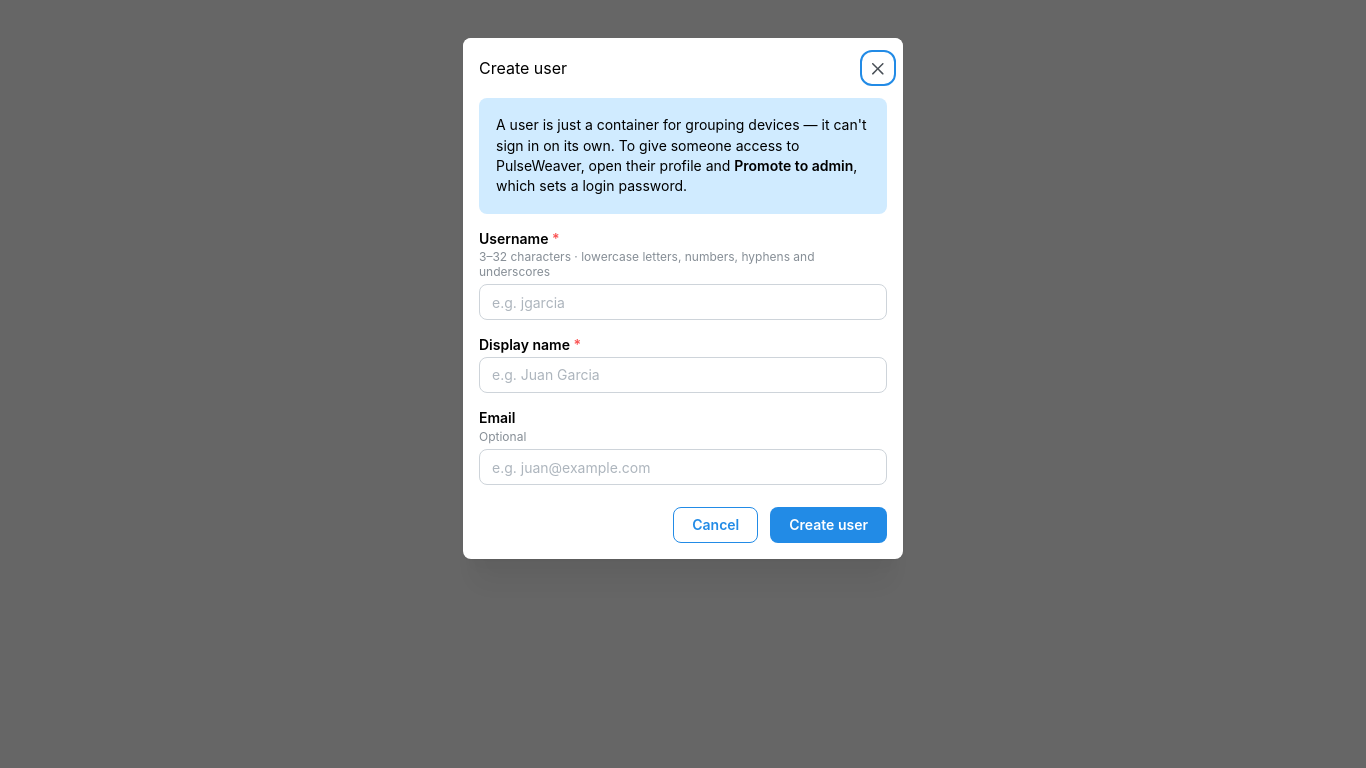
CreateUserModal › creates a user with a trimmed email, closes, notifies, and navigates to detail
The width and height of the screenshot is (1366, 768).
Type "alice" into the field labelled "Username *" at (683, 302), box [479,284,887,320]
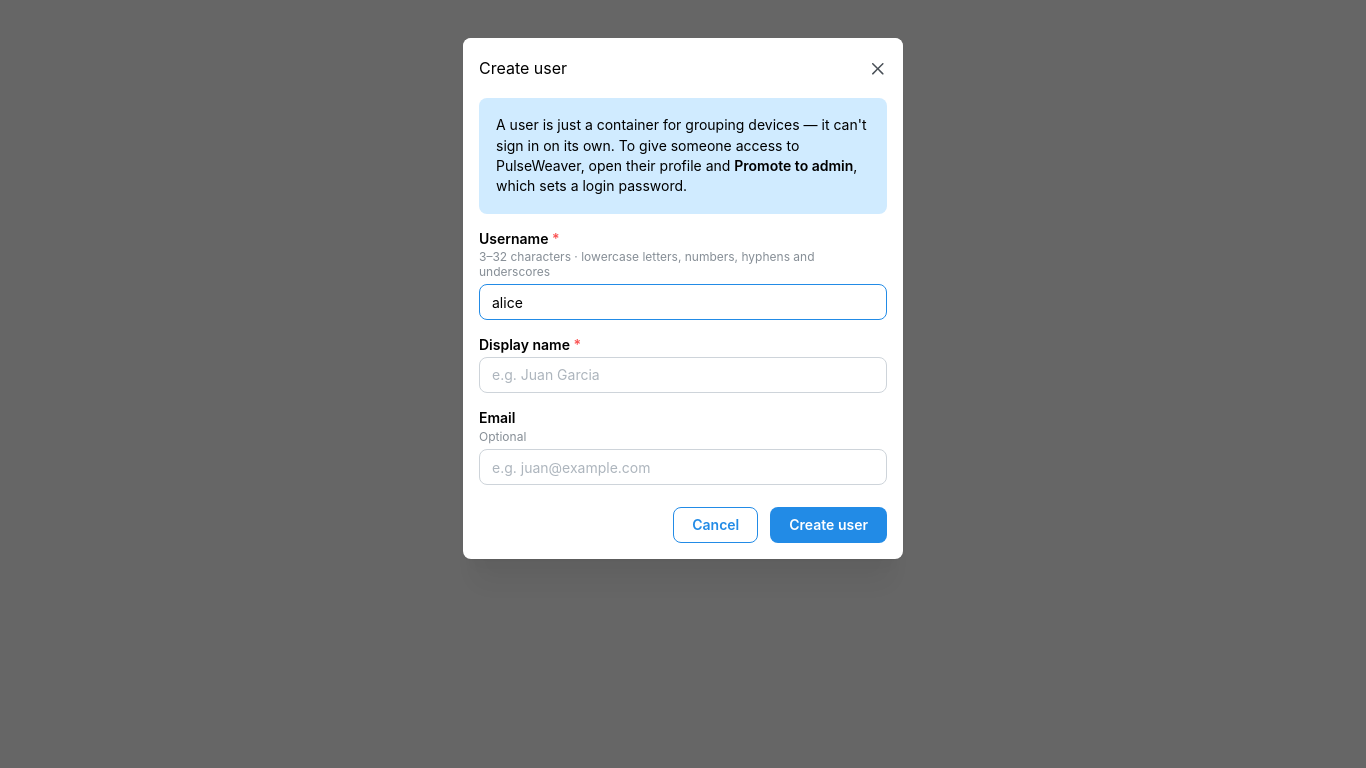
Type "Alice User" into the field labelled "Display name *" at (683, 375), box [479,357,887,393]
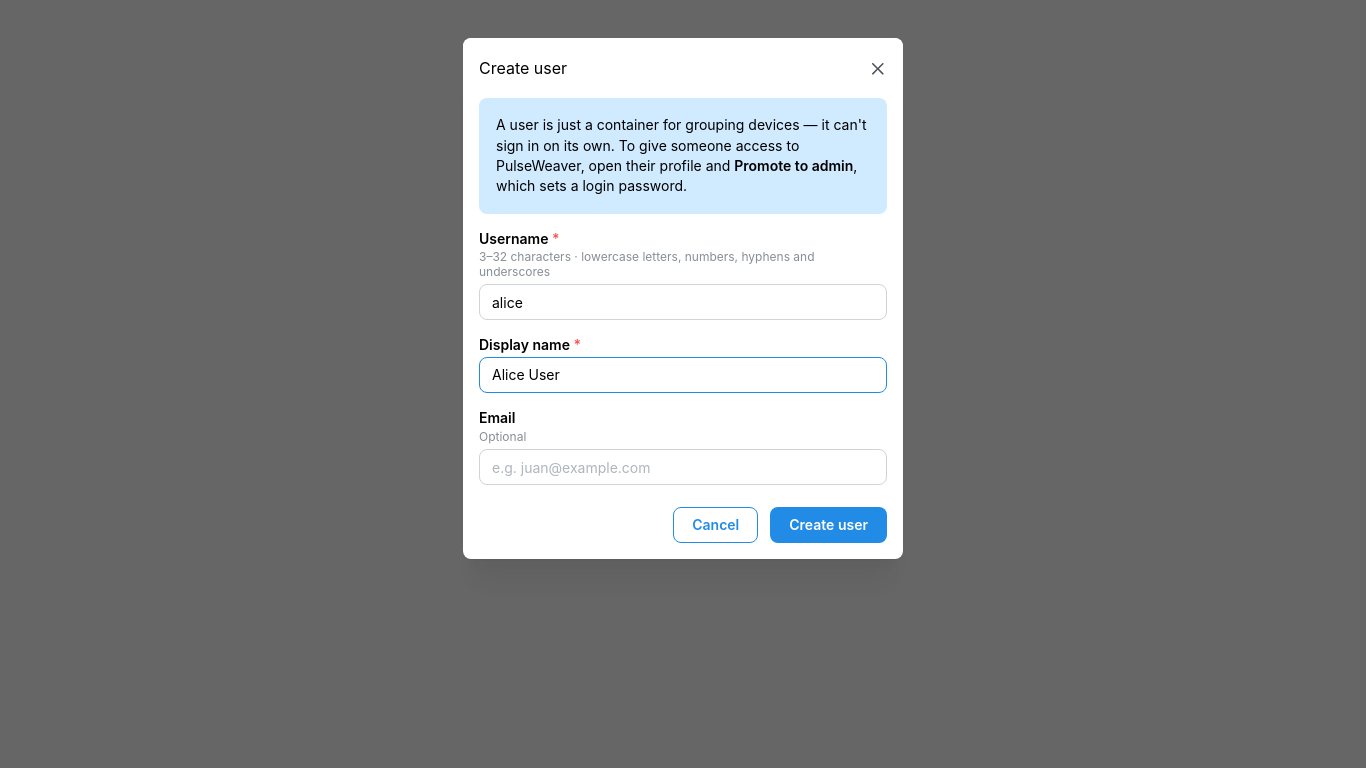
Type "  alice@example.com  " into the field labelled "Email" at (683, 467), box [479,449,887,485]
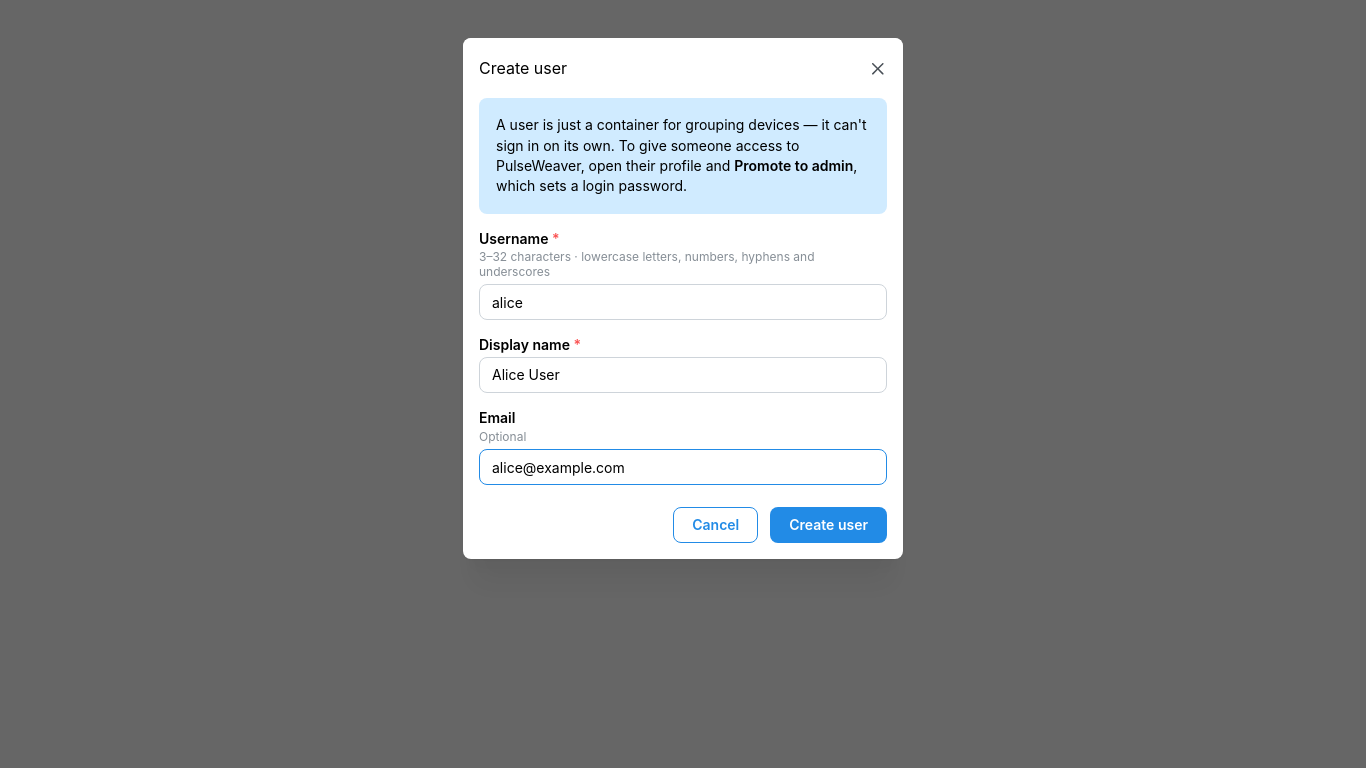
Click the button "Create user" at (829, 525), box [770,507,887,543]
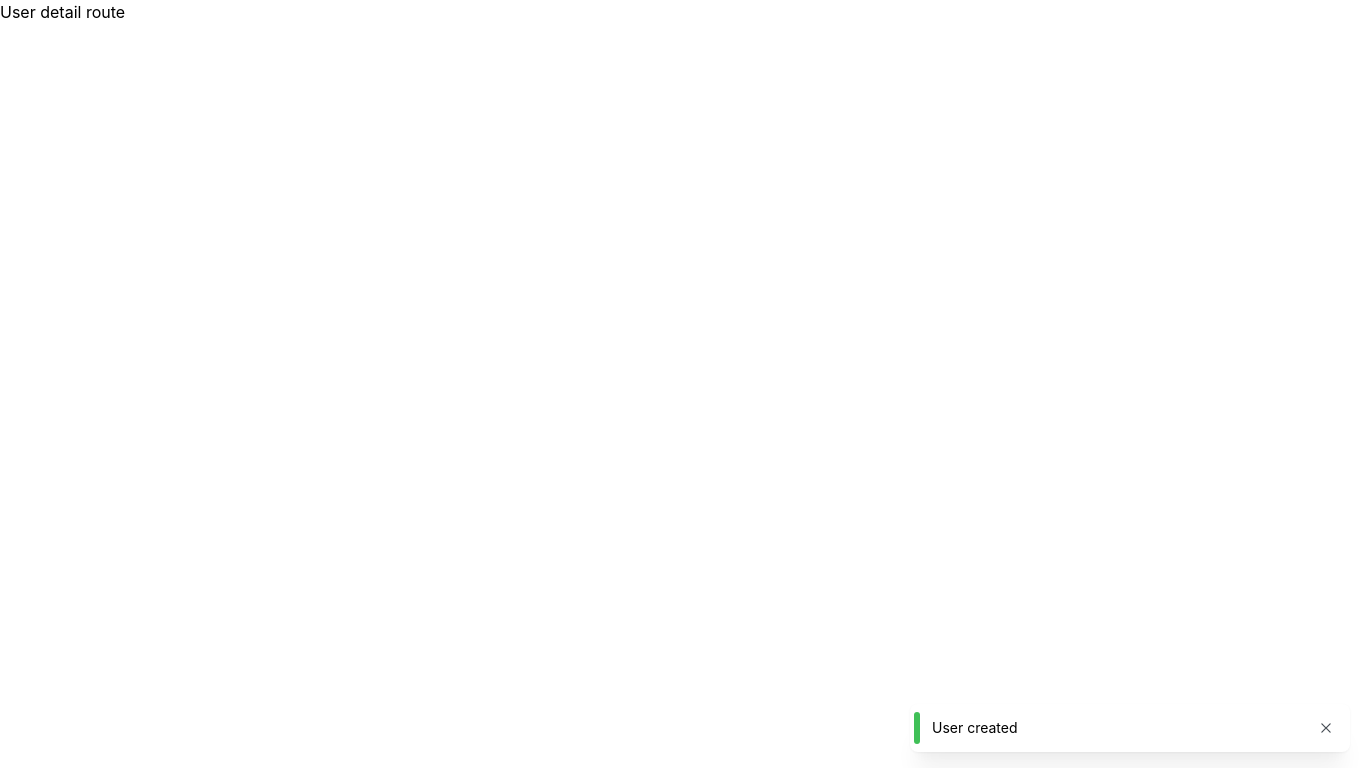
expect the text "User detail route" is shown: met, box [0,2,125,22]
expect the dialog is gone: met
